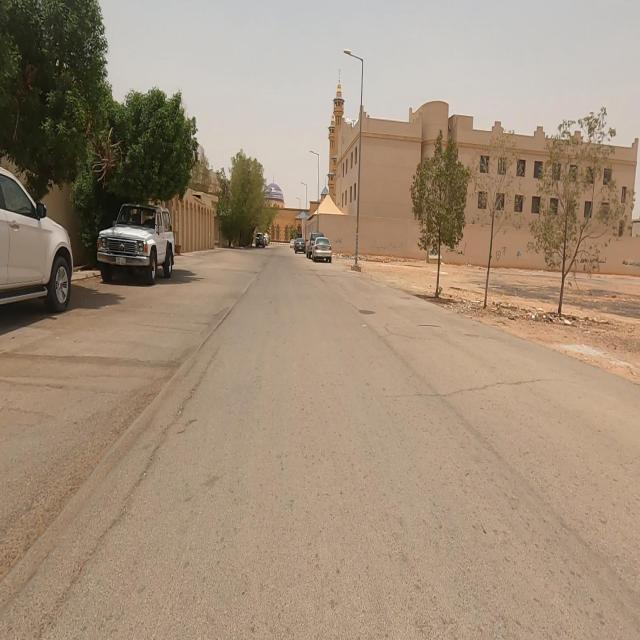Graffiti: (372, 241, 404, 251), (442, 248, 466, 258), (495, 245, 507, 262), (623, 258, 639, 268), (334, 236, 343, 244), (516, 251, 521, 261)
